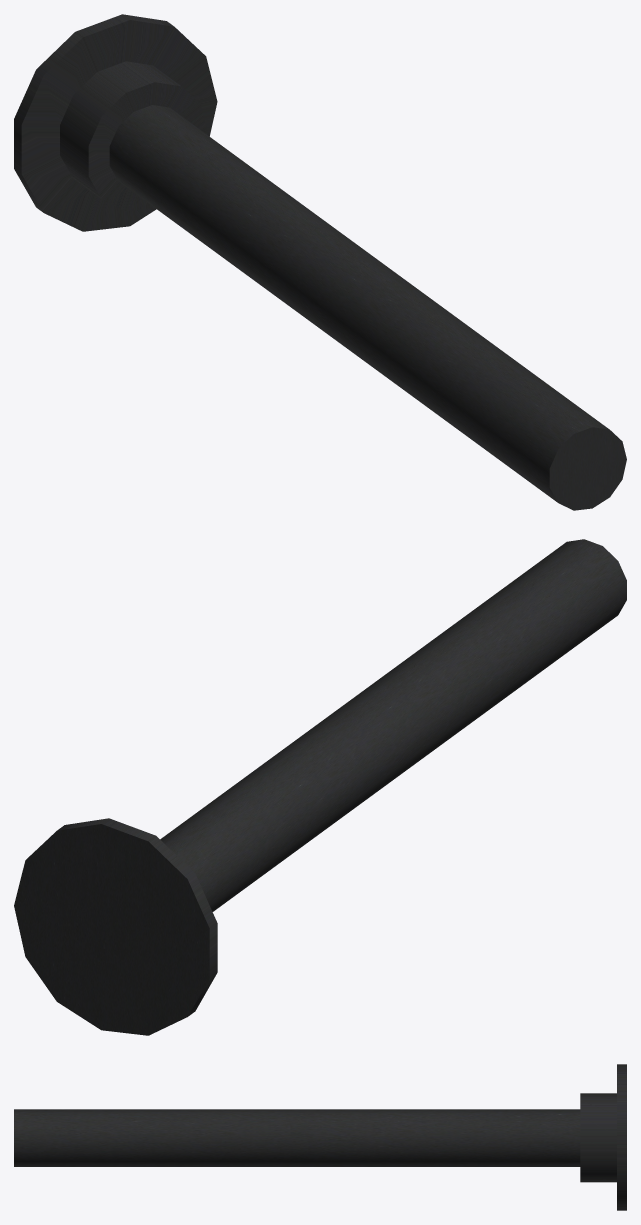
File: Screw_Rear_Sight_Windage.dae
The picture shows the model from 3 angles, top to bottom: view 1: azimuth 30°, elevation 25°; view 2: azimuth 150°, elevation 25°; view 3: azimuth 270°, elevation 25°; orthographic projection. The views are drawn at different scales.
Parts seen in each view (by area): view 1: Screw_Rear_Sight_Windage; view 2: Screw_Rear_Sight_Windage; view 3: Screw_Rear_Sight_Windage.
Boxes of the visible parts, x1,y1,x2,y2 form: Screw_Rear_Sight_Windage: (14, 14, 626, 510); Screw_Rear_Sight_Windage: (14, 539, 626, 1035); Screw_Rear_Sight_Windage: (14, 1064, 626, 1210).
Bounding box in the file's own units: 0.00679 × 0.0286 × 0.00684.
Materials: 1 (1 with a texture image).
